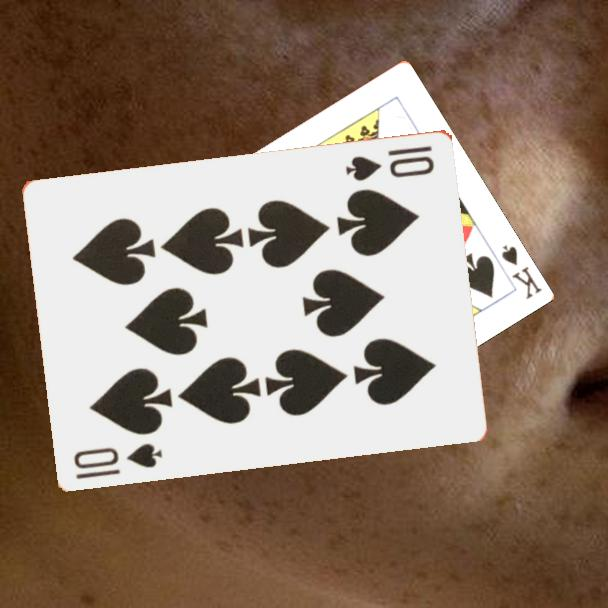s10: (342, 141, 438, 184), (70, 439, 165, 482)
s13: (497, 242, 545, 302)
